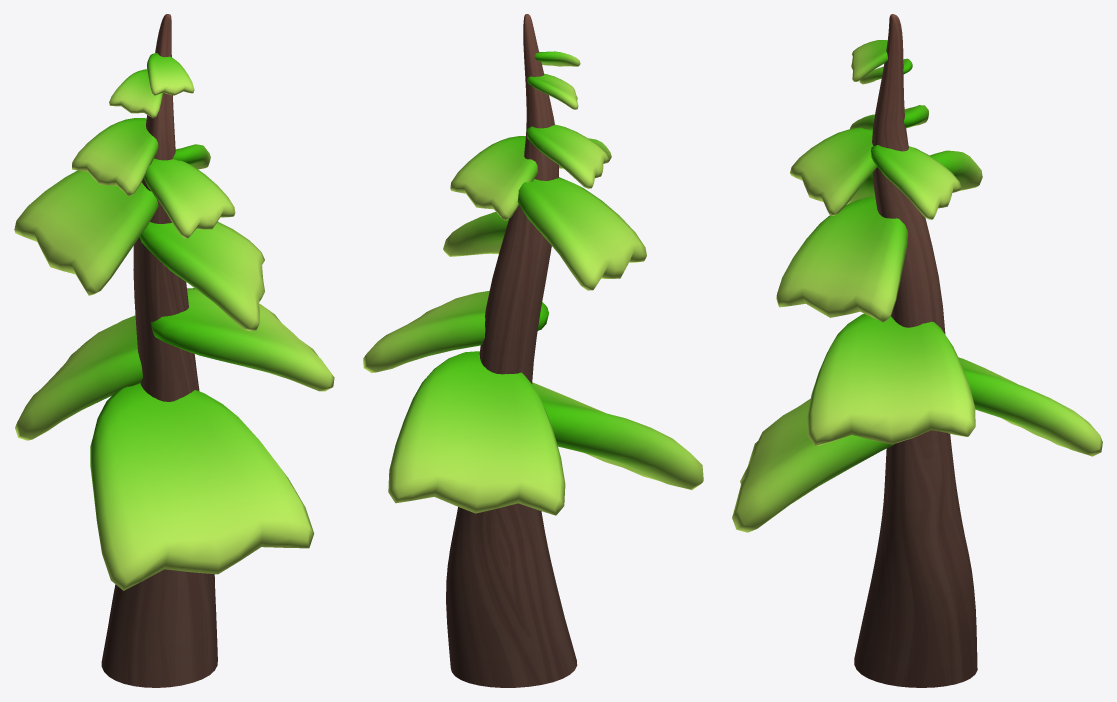
Rendered from arbol_pequeno.fbx.
The picture shows the model from 3 angles, left to right: view 1: azimuth 30°, elevation 25°; view 2: azimuth 150°, elevation 25°; view 3: azimuth 270°, elevation 25°; orthographic projection. The views are drawn at different scales.
Parts seen in each view (by area): view 1: Arbol2|Hoja1.001|Dupli|4, Arbol2, Arbol2|Hoja1.001|Dupli|7, Arbol2|Hoja1.001|Dupli|5, Arbol2|Hoja1.001|Dupli|2, Arbol2|Hoja1.001|Dupli|3, Arbol2|Hoja1.001|Dupli|9, Arbol2|Hoja1.001|Dupli|8, Arbol2|Hoja1.001|Dupli|, Arbol2|Hoja1.001|Dupli|1, Arbol2|Hoja1.001|Dupli|6; view 2: Arbol2, Arbol2|Hoja1.001|Dupli|3, Arbol2|Hoja1.001|Dupli|7, Arbol2|Hoja1.001|Dupli|4, Arbol2|Hoja1.001|Dupli|5, Arbol2|Hoja1.001|Dupli|6, Arbol2|Hoja1.001|Dupli|8, Arbol2|Hoja1.001|Dupli|2, Arbol2|Hoja1.001|Dupli|, Arbol2|Hoja1.001|Dupli|1; view 3: Arbol2, Arbol2|Hoja1.001|Dupli|5, Arbol2|Hoja1.001|Dupli|2, Arbol2|Hoja1.001|Dupli|4, Arbol2|Hoja1.001|Dupli|3, Arbol2|Hoja1.001|Dupli|9, Arbol2|Hoja1.001|Dupli|6, Arbol2|Hoja1.001|Dupli|7, Arbol2|Hoja1.001|Dupli|1, Arbol2|Hoja1.001|Dupli|8.
Boxes of the visible parts, x1,y1,x2,y2 form: Arbol2|Hoja1.001|Dupli|4: [90, 383, 314, 590]; Arbol2: [101, 14, 217, 687]; Arbol2|Hoja1.001|Dupli|7: [14, 170, 158, 295]; Arbol2|Hoja1.001|Dupli|5: [150, 288, 334, 391]; Arbol2|Hoja1.001|Dupli|2: [139, 221, 264, 331]; Arbol2|Hoja1.001|Dupli|3: [15, 315, 142, 440]; Arbol2|Hoja1.001|Dupli|9: [143, 158, 235, 238]; Arbol2|Hoja1.001|Dupli|8: [72, 118, 158, 196]; Arbol2|Hoja1.001|Dupli|: [109, 69, 163, 118]; Arbol2|Hoja1.001|Dupli|1: [147, 53, 194, 95]; Arbol2|Hoja1.001|Dupli|6: [173, 144, 210, 169]; Arbol2: [446, 14, 577, 687]; Arbol2|Hoja1.001|Dupli|3: [388, 351, 565, 515]; Arbol2|Hoja1.001|Dupli|7: [517, 177, 646, 290]; Arbol2|Hoja1.001|Dupli|4: [532, 382, 703, 489]; Arbol2|Hoja1.001|Dupli|5: [363, 290, 548, 372]; Arbol2|Hoja1.001|Dupli|6: [450, 136, 537, 220]; Arbol2|Hoja1.001|Dupli|8: [526, 124, 608, 188]; Arbol2|Hoja1.001|Dupli|2: [443, 212, 551, 256]; Arbol2|Hoja1.001|Dupli|: [527, 73, 578, 109]; Arbol2|Hoja1.001|Dupli|1: [534, 51, 580, 66]; Arbol2: [854, 14, 977, 687]; Arbol2|Hoja1.001|Dupli|5: [807, 313, 975, 445]; Arbol2|Hoja1.001|Dupli|2: [776, 196, 907, 322]; Arbol2|Hoja1.001|Dupli|4: [732, 399, 894, 532]; Arbol2|Hoja1.001|Dupli|3: [958, 357, 1102, 456]; Arbol2|Hoja1.001|Dupli|9: [790, 127, 877, 215]; Arbol2|Hoja1.001|Dupli|6: [871, 145, 961, 219]; Arbol2|Hoja1.001|Dupli|7: [847, 150, 982, 204]; Arbol2|Hoja1.001|Dupli|1: [851, 40, 887, 81]; Arbol2|Hoja1.001|Dupli|8: [850, 105, 928, 130].
Bounding box in the file's own units: 263 × 656 × 340.
